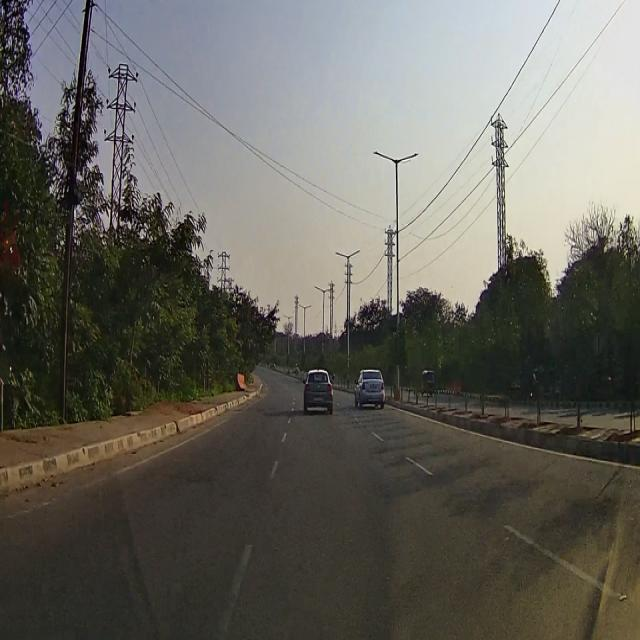car ahead at: (298, 370, 336, 424), (354, 364, 386, 410)
